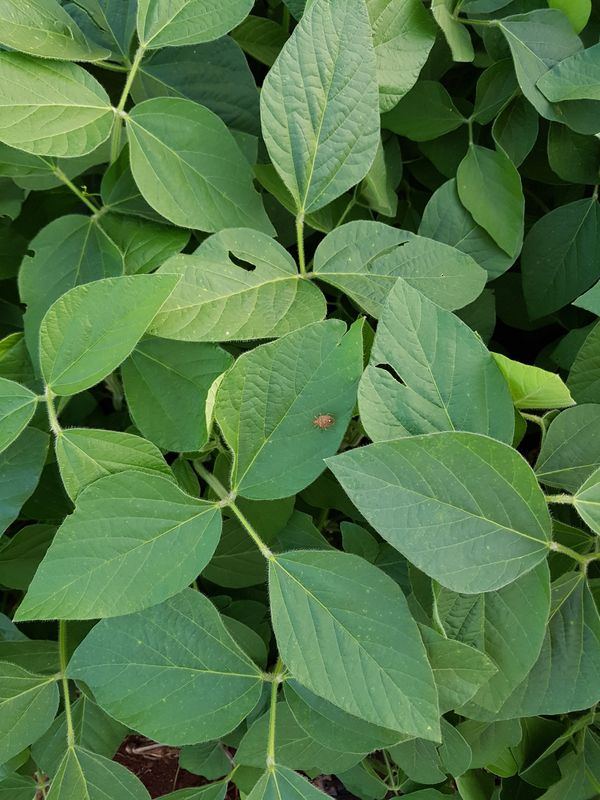Euschistus_heros_adulto: (306, 408, 341, 439)
